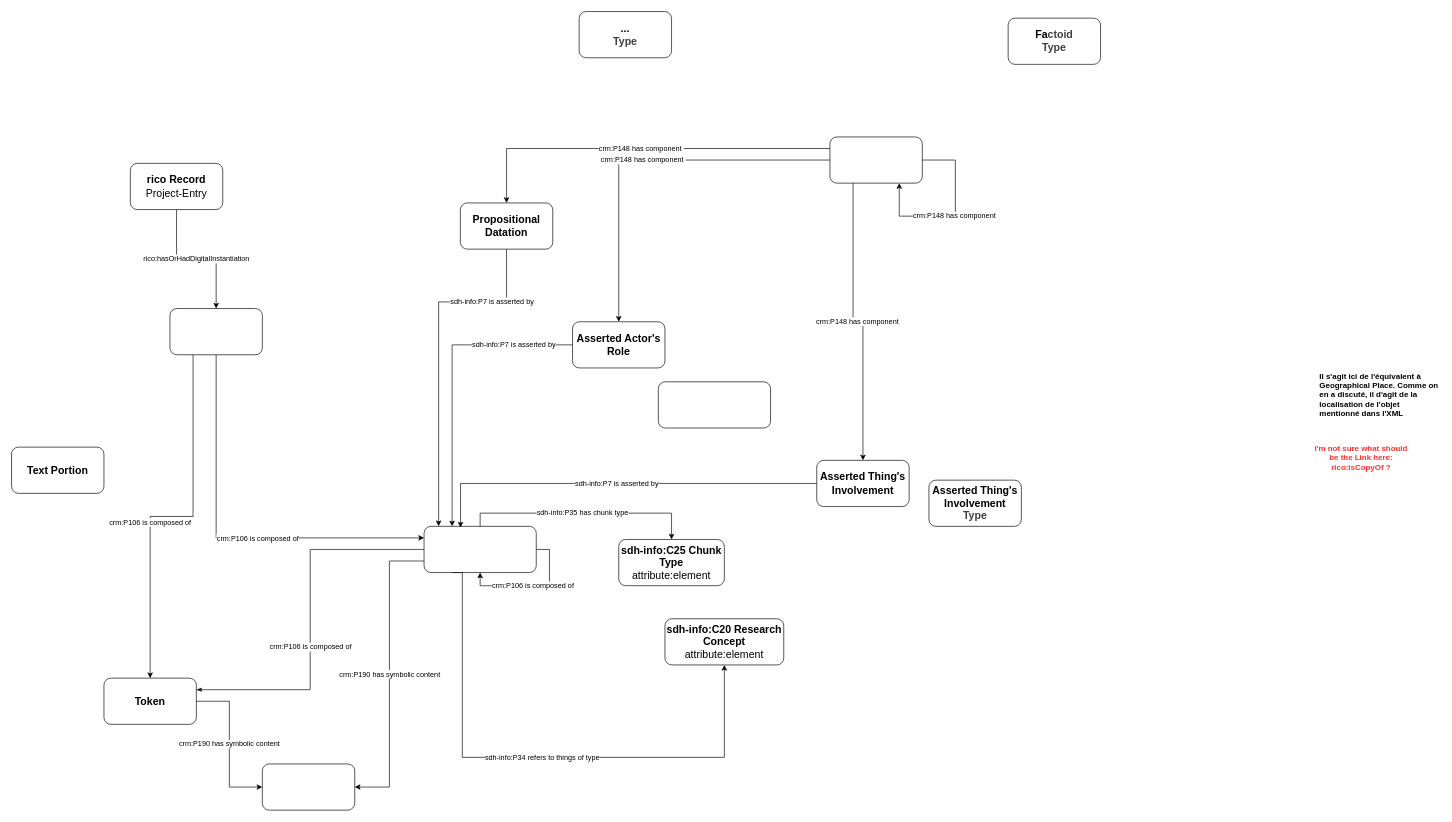
This 1452x822 diagram has some shape labels left out. The shapes that lost their labels are listed below. From the top down, each one's box as (x1, y1, x2, y2) in pixels, then its label:
(829, 136, 922, 183): Fa ctoid
(169, 308, 262, 355): crmE33 Linguistic Object Project-Entry
(658, 381, 771, 428): Asserted Actor's Role Type
(423, 526, 536, 573): sdh-info:C16 Chunk Span
(262, 763, 355, 810): crm:E62 String
